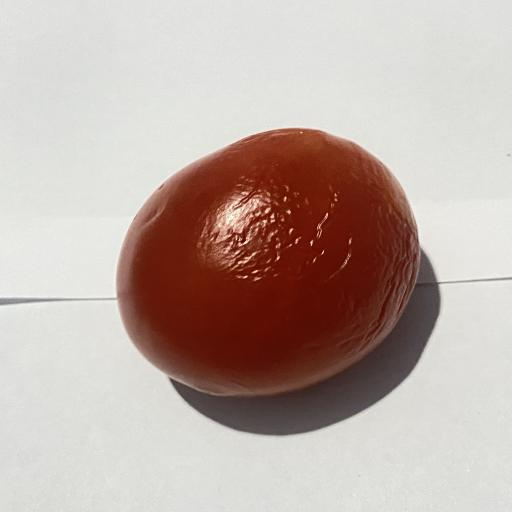spoiled: (117, 128, 420, 396)
